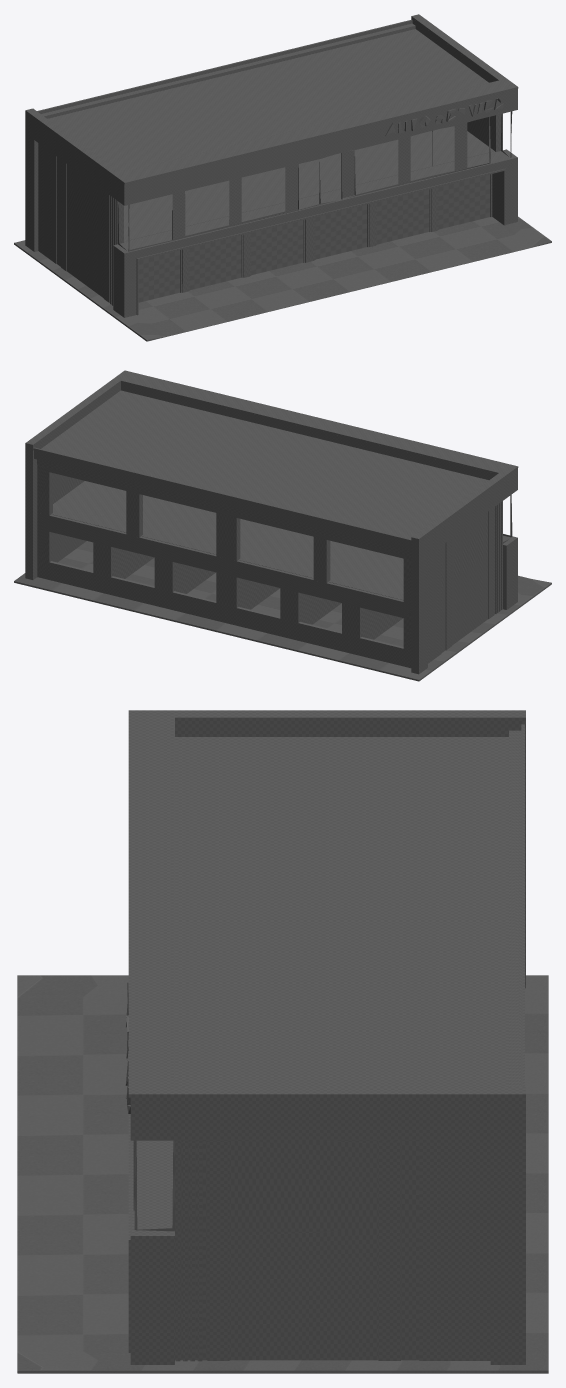
The model's file is SM_Auto_Service.fbx.
3 views of the same model, one above another, from view 1: azimuth 30°, elevation 25°; view 2: azimuth 150°, elevation 25°; view 3: azimuth 270°, elevation 25° (orthographic). The views are drawn at different scales.
Visible parts, largest first — view 1: SM_Auto_Service; view 2: SM_Auto_Service; view 3: SM_Auto_Service.
Boxes of the visible parts, x1,y1,x2,y2 form: SM_Auto_Service: (14,14,551,341); SM_Auto_Service: (14,370,551,681); SM_Auto_Service: (17,710,548,1373).
Size of the model in its own units: 2633 by 1496 by 850.
